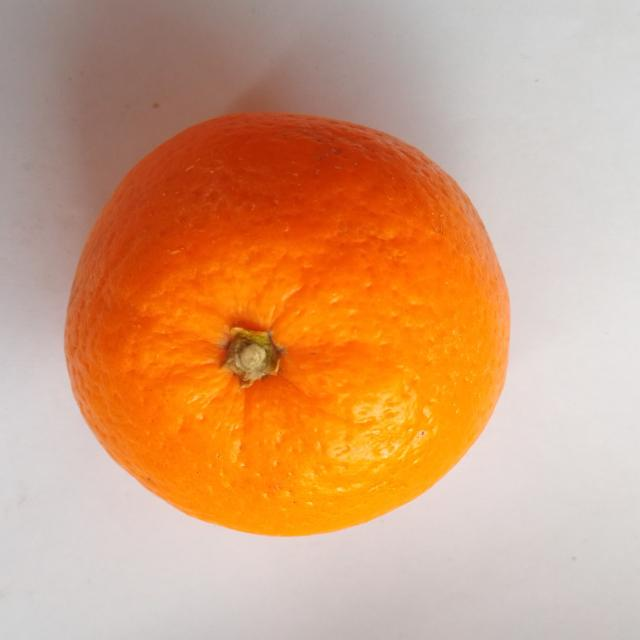orange: (66, 114, 509, 535)
